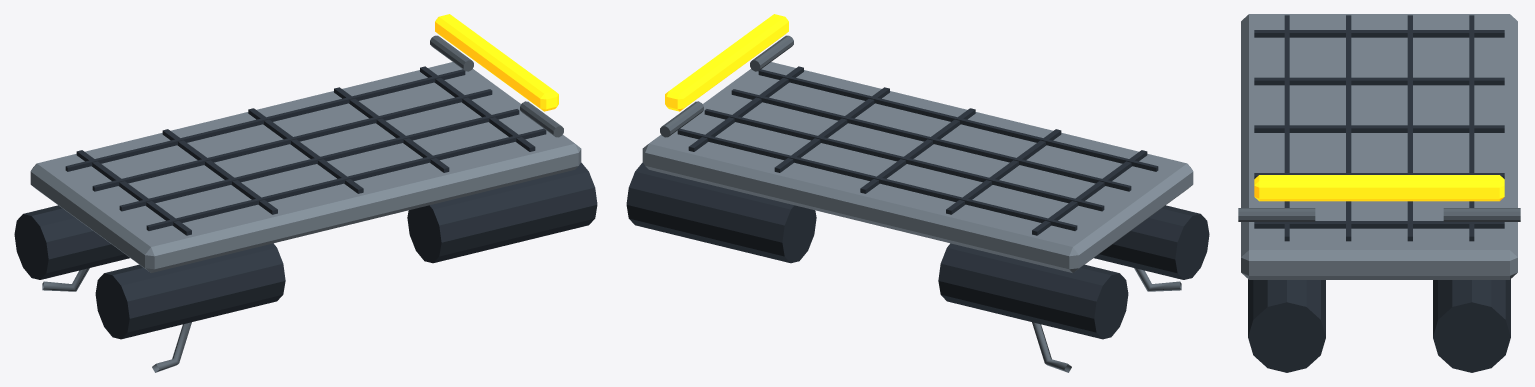
The model's file is launch_platform.glb.
3 renders of one model, left to right at view 1: azimuth 30°, elevation 25°; view 2: azimuth 150°, elevation 25°; view 3: azimuth 270°, elevation 25°, orthographic. The views are drawn at different scales.
Parts seen in each view (by area): view 1: LaunchPlatform_Deck, LaunchPlatform_Float, LaunchPlatform_Float.002, LaunchPlatform_Float.001, LaunchPlatform_HydraulicBar, LaunchPlatform_AntiSlip.006, LaunchPlatform_AntiSlip.007, LaunchPlatform_AntiSlip.008, LaunchPlatform_AntiSlip.005, LaunchPlatform_AntiSlip.003, LaunchPlatform_AntiSlip.004, LaunchPlatform_AntiSlip.001 (+5 smaller); view 2: LaunchPlatform_Deck, LaunchPlatform_Float.001, LaunchPlatform_Float.003, LaunchPlatform_Float, LaunchPlatform_HydraulicBar, LaunchPlatform_AntiSlip.007, LaunchPlatform_AntiSlip.006, LaunchPlatform_AntiSlip.005, LaunchPlatform_AntiSlip.008, LaunchPlatform_AntiSlip.003, LaunchPlatform_AntiSlip.004, LaunchPlatform_AntiSlip.001 (+5 smaller); view 3: LaunchPlatform_Deck, LaunchPlatform_HydraulicBar, LaunchPlatform_Float.002, LaunchPlatform_Float.003, LaunchPlatform_AntiSlip.001, LaunchPlatform_AntiSlip, LaunchPlatform_AntiSlip.002, LaunchPlatform_AntiSlip.004, LaunchPlatform_AntiSlip.006, LaunchPlatform_AntiSlip.007, LaunchPlatform_AntiSlip.005, LaunchPlatform_AntiSlip.008 (+3 smaller).
Boxes of the visible parts, <box> form: LaunchPlatform_Deck: <box>30,62,581,272</box>; LaunchPlatform_Float: <box>95,243,285,339</box>; LaunchPlatform_Float.002: <box>407,162,597,263</box>; LaunchPlatform_Float.001: <box>14,205,129,279</box>; LaunchPlatform_HydraulicBar: <box>435,14,558,111</box>; LaunchPlatform_AntiSlip.006: <box>119,109,519,211</box>; LaunchPlatform_AntiSlip.007: <box>92,89,492,191</box>; LaunchPlatform_AntiSlip.008: <box>65,69,465,171</box>; LaunchPlatform_AntiSlip.005: <box>146,128,546,230</box>; LaunchPlatform_AntiSlip.003: <box>334,87,449,172</box>; LaunchPlatform_AntiSlip.004: <box>420,66,535,151</box>; LaunchPlatform_AntiSlip.001: <box>162,129,277,214</box>; LaunchPlatform_Deck: <box>642,62,1193,272</box>; LaunchPlatform_Float.001: <box>938,243,1128,339</box>; LaunchPlatform_Float.003: <box>626,162,816,263</box>; LaunchPlatform_Float: <box>1094,205,1209,279</box>; LaunchPlatform_HydraulicBar: <box>665,14,788,111</box>; LaunchPlatform_AntiSlip.007: <box>704,109,1104,211</box>; LaunchPlatform_AntiSlip.006: <box>731,89,1131,191</box>; LaunchPlatform_AntiSlip.005: <box>758,69,1158,171</box>; LaunchPlatform_AntiSlip.008: <box>677,128,1077,230</box>; LaunchPlatform_AntiSlip.003: <box>774,87,889,172</box>; LaunchPlatform_AntiSlip.004: <box>688,66,803,151</box>; LaunchPlatform_AntiSlip.001: <box>946,129,1061,214</box>; LaunchPlatform_Deck: <box>1241,14,1517,279</box>; LaunchPlatform_HydraulicBar: <box>1254,175,1504,201</box>; LaunchPlatform_Float.002: <box>1248,279,1325,372</box>; LaunchPlatform_Float.003: <box>1433,279,1510,372</box>; LaunchPlatform_AntiSlip.001: <box>1254,77,1504,85</box>; LaunchPlatform_AntiSlip: <box>1254,30,1504,37</box>; LaunchPlatform_AntiSlip.002: <box>1254,125,1504,132</box>; LaunchPlatform_AntiSlip.004: <box>1254,221,1504,228</box>; LaunchPlatform_AntiSlip.006: <box>1346,15,1351,241</box>; LaunchPlatform_AntiSlip.007: <box>1407,15,1412,241</box>; LaunchPlatform_AntiSlip.005: <box>1284,15,1289,241</box>; LaunchPlatform_AntiSlip.008: <box>1469,15,1474,241</box>.
Size of the model in its own units: 6 by 2.26 by 2.75.
